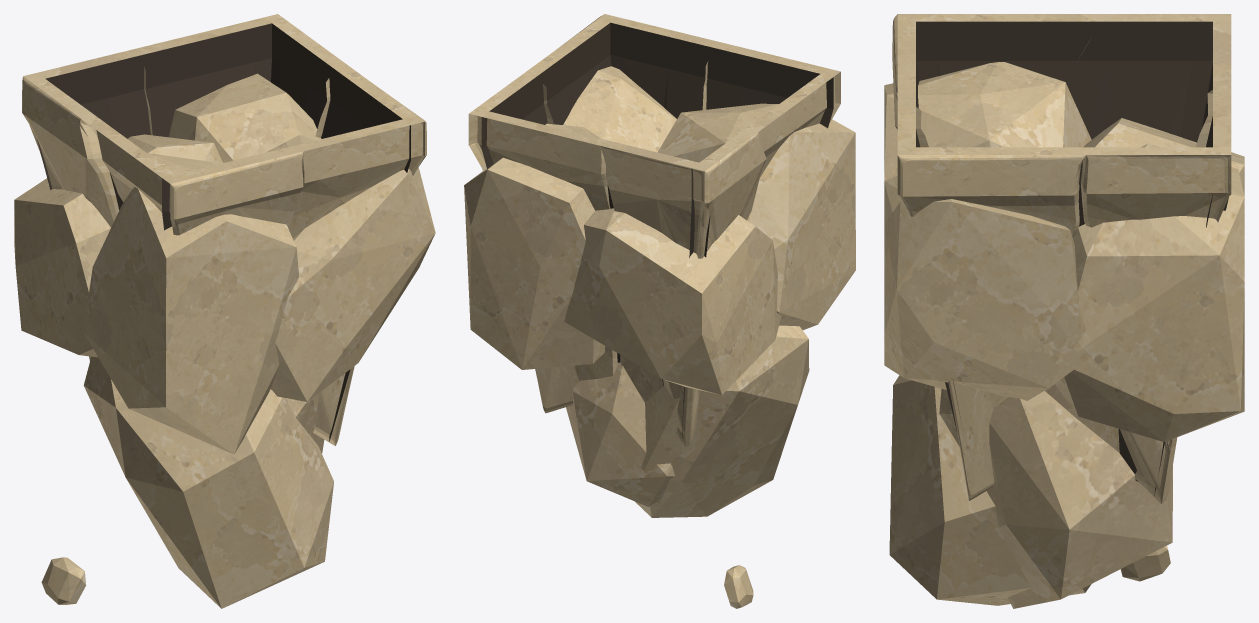
File: ground_bottom_island_04.glb
3 renders of one model, left to right at view 1: azimuth 30°, elevation 25°; view 2: azimuth 150°, elevation 25°; view 3: azimuth 270°, elevation 25°, orthographic. The views are drawn at different scales.
Parts seen in each view (by area): view 1: GroundBottomIsland04_Body; view 2: GroundBottomIsland04_Body; view 3: GroundBottomIsland04_Body.
Boxes of the visible parts, <box> form: GroundBottomIsland04_Body: <box>14,14,435,608</box>; GroundBottomIsland04_Body: <box>464,14,855,608</box>; GroundBottomIsland04_Body: <box>884,14,1244,608</box>.
Bounding box in the file's own units: 1.08 × 1.87 × 1.08.
Materials: 17 (16 with a texture image).
